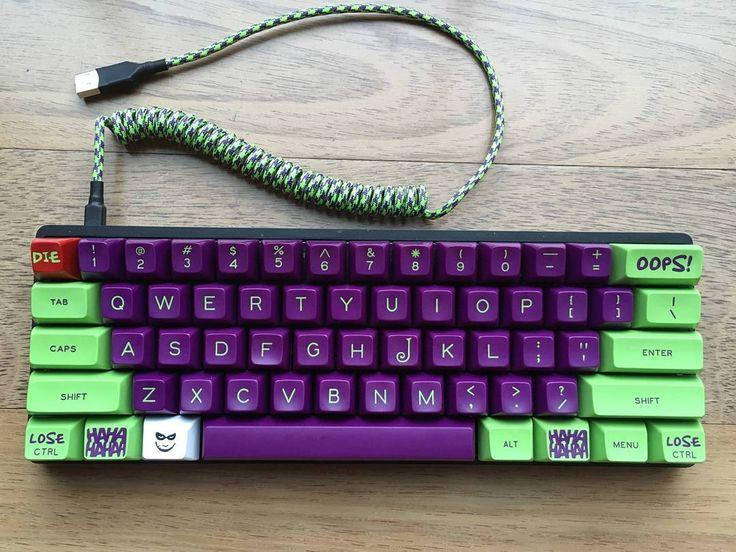keyboard: (24, 224, 706, 466)
